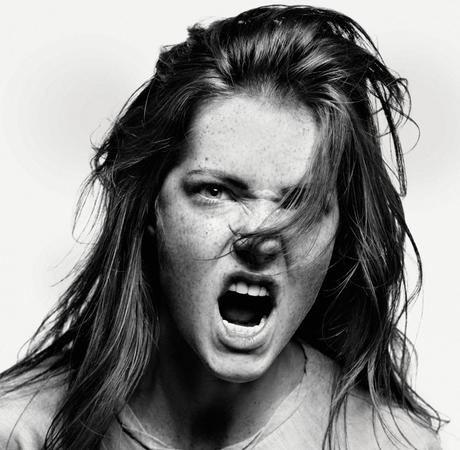angry: (154, 143, 336, 395)
